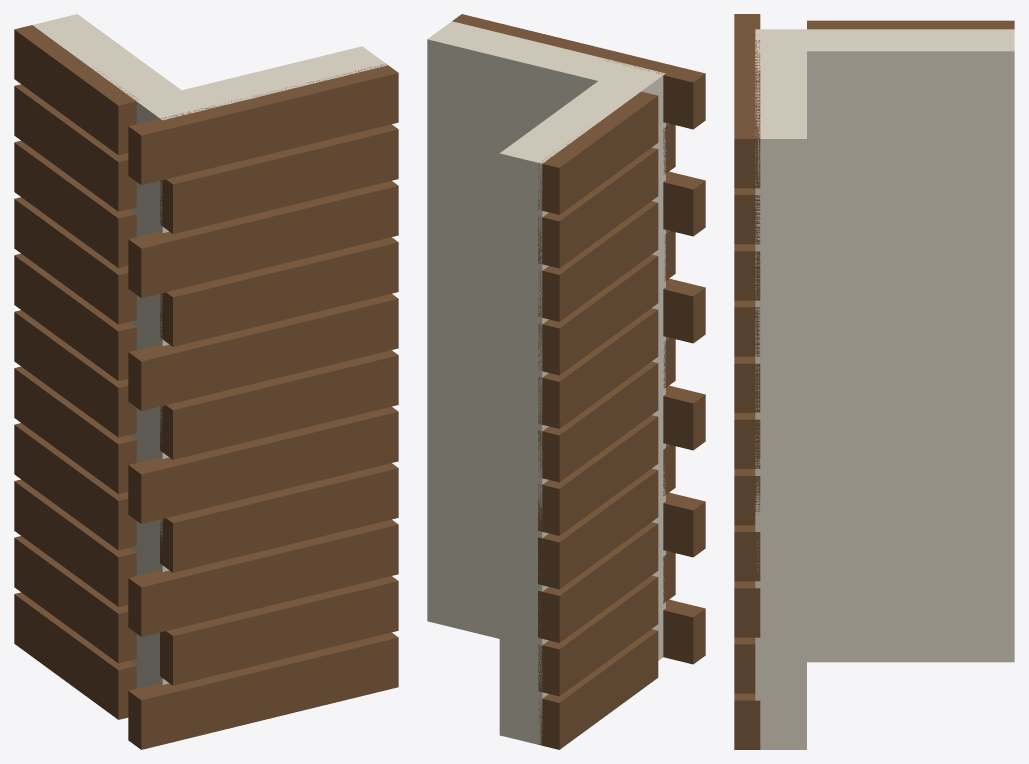
The model's file is SM_Wall_RusticLog_01_Corner.glb.
3 views of the same model, side by side, from view 1: azimuth 30°, elevation 25°; view 2: azimuth 150°, elevation 25°; view 3: azimuth 270°, elevation 25° (orthographic). The views are drawn at different scales.
Visible parts, largest first — view 1: SM_Wall_RusticLog_01_Corner_X_Log10, SM_Wall_RusticLog_01_Corner_X_Log1, SM_Wall_RusticLog_01_Corner_X_Log7, SM_Wall_RusticLog_01_Corner_X_Log5, SM_Wall_RusticLog_01_Corner_X_Log9, SM_Wall_RusticLog_01_Corner_X_Log3, SM_Wall_RusticLog_01_Corner_PanelX, SM_Wall_RusticLog_01_Corner_X_Log0, SM_Wall_RusticLog_01_Corner_X_Log2, SM_Wall_RusticLog_01_Corner_X_Log6, SM_Wall_RusticLog_01_Corner_X_Log8, SM_Wall_RusticLog_01_Corner_X_Log4 (+18 smaller); view 2: SM_Wall_RusticLog_01_Corner_PanelX, SM_Wall_RusticLog_01_Corner_PanelY, SM_Wall_RusticLog_01_Corner_YLog10, SM_Wall_RusticLog_01_Corner_YLog2, SM_Wall_RusticLog_01_Corner_YLog3, SM_Wall_RusticLog_01_Corner_YLog1, SM_Wall_RusticLog_01_Corner_YLog6, SM_Wall_RusticLog_01_Corner_YLog9, SM_Wall_RusticLog_01_Corner_YLog4, SM_Wall_RusticLog_01_Corner_YLog5, SM_Wall_RusticLog_01_Corner_YLog7, SM_Wall_RusticLog_01_Corner_YLog8 (+13 smaller); view 3: SM_Wall_RusticLog_01_Corner_PanelY, SM_Wall_RusticLog_01_Corner_PanelX, SM_Wall_RusticLog_01_Corner_X_Log10, SM_Wall_RusticLog_01_Corner_YLog10, SM_Wall_RusticLog_01_Corner_X_Log2, SM_Wall_RusticLog_01_Corner_X_Log0, SM_Wall_RusticLog_01_Corner_X_Log3, SM_Wall_RusticLog_01_Corner_X_Log8, SM_Wall_RusticLog_01_Corner_X_Log6, SM_Wall_RusticLog_01_Corner_X_Log5, SM_Wall_RusticLog_01_Corner_X_Log9, SM_Wall_RusticLog_01_Corner_X_Log7 (+2 smaller).
Part boxes in pixels (left/top/right/bottom): SM_Wall_RusticLog_01_Corner_X_Log10: left=161, top=63, right=398, bottom=177; SM_Wall_RusticLog_01_Corner_X_Log1: left=160, top=576, right=398, bottom=685; SM_Wall_RusticLog_01_Corner_X_Log7: left=160, top=237, right=398, bottom=346; SM_Wall_RusticLog_01_Corner_X_Log5: left=160, top=350, right=398, bottom=459; SM_Wall_RusticLog_01_Corner_X_Log9: left=160, top=124, right=398, bottom=233; SM_Wall_RusticLog_01_Corner_X_Log3: left=160, top=463, right=398, bottom=572; SM_Wall_RusticLog_01_Corner_PanelX: left=136, top=46, right=387, bottom=688; SM_Wall_RusticLog_01_Corner_X_Log0: left=163, top=632, right=398, bottom=742; SM_Wall_RusticLog_01_Corner_X_Log2: left=163, top=519, right=398, bottom=629; SM_Wall_RusticLog_01_Corner_X_Log6: left=163, top=293, right=398, bottom=403; SM_Wall_RusticLog_01_Corner_X_Log8: left=163, top=180, right=398, bottom=290; SM_Wall_RusticLog_01_Corner_X_Log4: left=163, top=406, right=398, bottom=516; SM_Wall_RusticLog_01_Corner_PanelX: left=427, top=21, right=665, bottom=660; SM_Wall_RusticLog_01_Corner_PanelY: left=499, top=81, right=640, bottom=745; SM_Wall_RusticLog_01_Corner_YLog10: left=538, top=91, right=658, bottom=214; SM_Wall_RusticLog_01_Corner_YLog2: left=538, top=522, right=658, bottom=642; SM_Wall_RusticLog_01_Corner_YLog3: left=538, top=468, right=658, bottom=589; SM_Wall_RusticLog_01_Corner_YLog1: left=538, top=575, right=658, bottom=696; SM_Wall_RusticLog_01_Corner_YLog6: left=538, top=308, right=658, bottom=428; SM_Wall_RusticLog_01_Corner_YLog9: left=538, top=147, right=658, bottom=268; SM_Wall_RusticLog_01_Corner_YLog4: left=538, top=415, right=658, bottom=535; SM_Wall_RusticLog_01_Corner_YLog5: left=538, top=361, right=658, bottom=482; SM_Wall_RusticLog_01_Corner_YLog7: left=538, top=254, right=658, bottom=375; SM_Wall_RusticLog_01_Corner_YLog8: left=538, top=201, right=658, bottom=321; SM_Wall_RusticLog_01_Corner_PanelY: left=807, top=29, right=1014, bottom=662; SM_Wall_RusticLog_01_Corner_PanelX: left=755, top=29, right=806, bottom=749; SM_Wall_RusticLog_01_Corner_X_Log10: left=734, top=29, right=760, bottom=188; SM_Wall_RusticLog_01_Corner_YLog10: left=807, top=20, right=1014, bottom=29; SM_Wall_RusticLog_01_Corner_X_Log2: left=734, top=581, right=760, bottom=637; SM_Wall_RusticLog_01_Corner_X_Log0: left=734, top=693, right=760, bottom=749; SM_Wall_RusticLog_01_Corner_X_Log3: left=734, top=525, right=760, bottom=581; SM_Wall_RusticLog_01_Corner_X_Log8: left=734, top=244, right=760, bottom=300; SM_Wall_RusticLog_01_Corner_X_Log6: left=734, top=356, right=760, bottom=412; SM_Wall_RusticLog_01_Corner_X_Log5: left=734, top=413, right=760, bottom=468; SM_Wall_RusticLog_01_Corner_X_Log9: left=734, top=188, right=760, bottom=244; SM_Wall_RusticLog_01_Corner_X_Log7: left=734, top=300, right=760, bottom=356.
Size of the model in its own units: 1.14 by 2.6 by 1.08.
